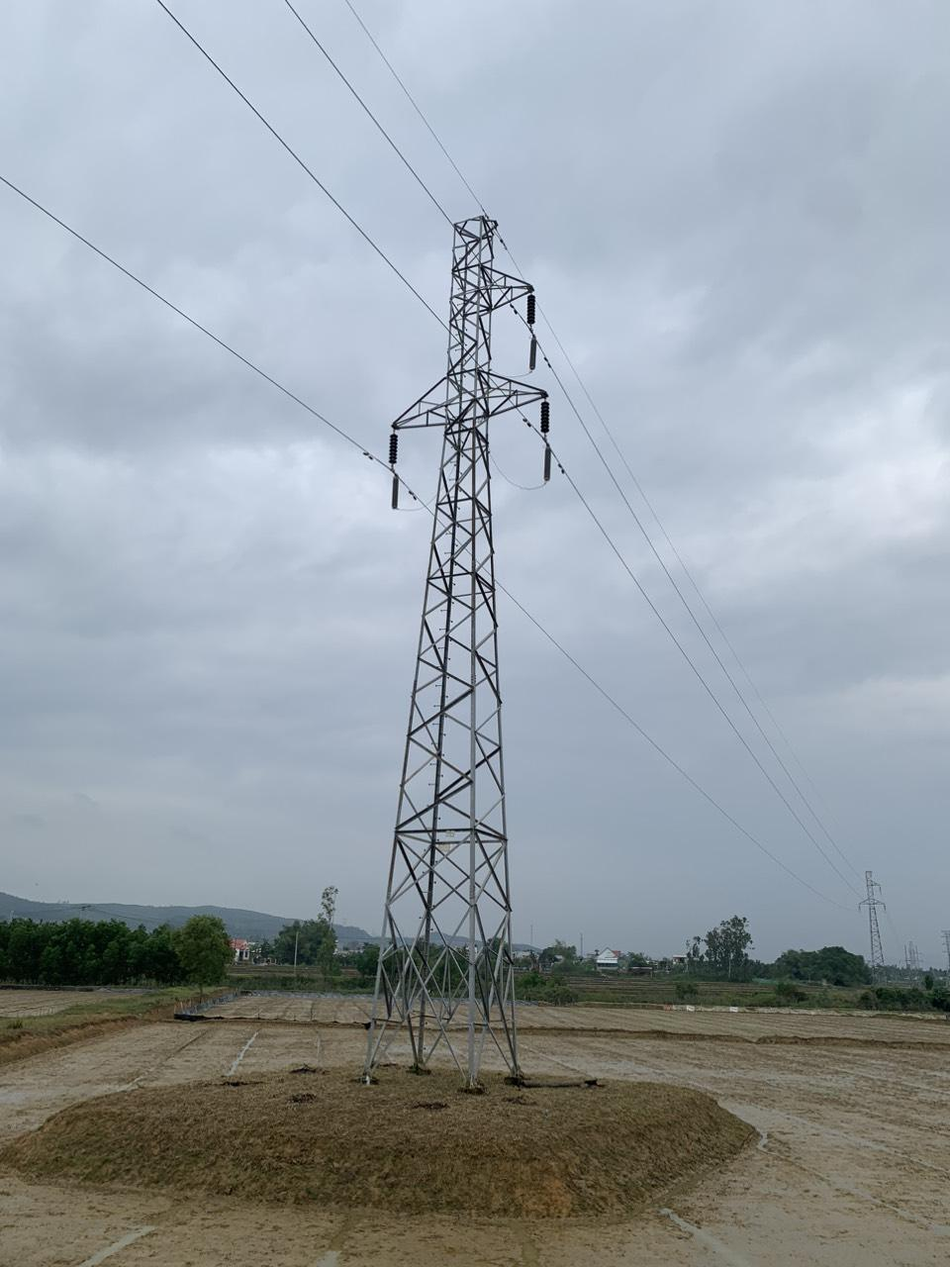power_tower: (362, 190, 534, 1089)
